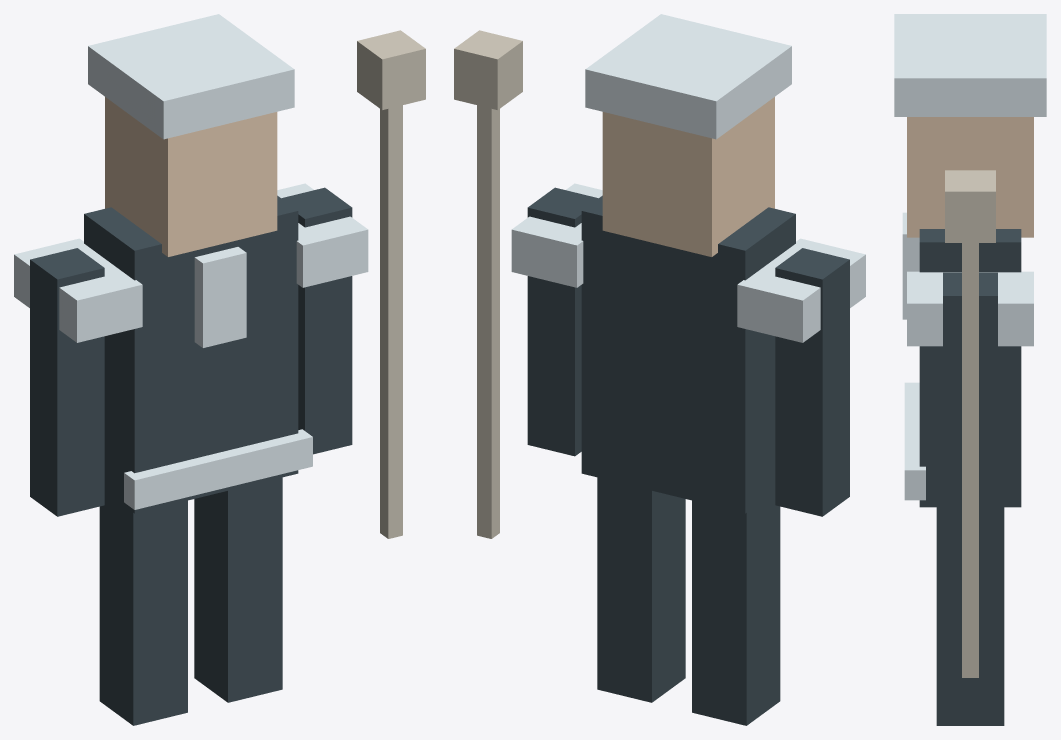
Rendered from 02_calder_glassroot_specialist_under_final.glb.
3 renders of one model, left to right at view 1: azimuth 30°, elevation 25°; view 2: azimuth 150°, elevation 25°; view 3: azimuth 270°, elevation 25°, orthographic.
Parts seen in each view (by area): view 1: Calder Glassroot, Specialist under Final; view 2: Calder Glassroot, Specialist under Final; view 3: Calder Glassroot, Specialist under Final.
Boxes of the visible parts, x1,y1,x2,y2 form: Calder Glassroot, Specialist under Final: (14,14,425,725); Calder Glassroot, Specialist under Final: (454,14,865,725); Calder Glassroot, Specialist under Final: (894,14,1046,725).
Size of the model in its own units: 1.04 by 1.71 by 0.3686.
